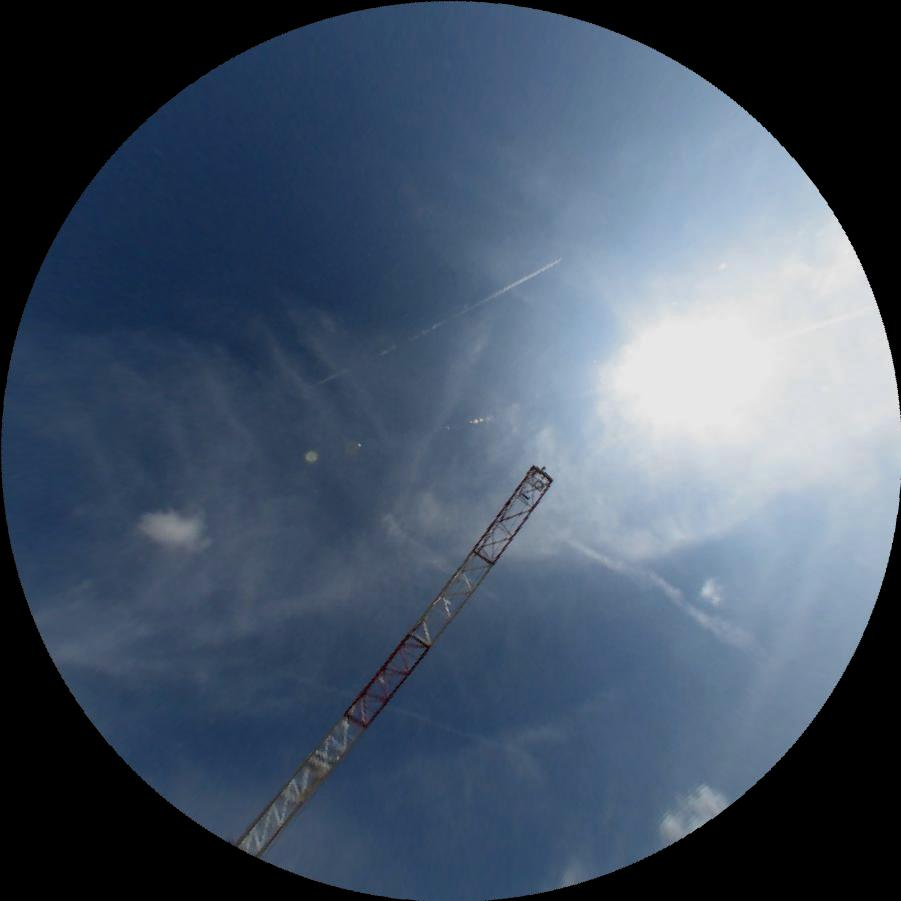contrail old: (307, 677, 523, 756)
contrail young: (315, 256, 564, 389)
sun: (592, 282, 779, 465)
unknow: (539, 516, 761, 658), (398, 306, 494, 499)
